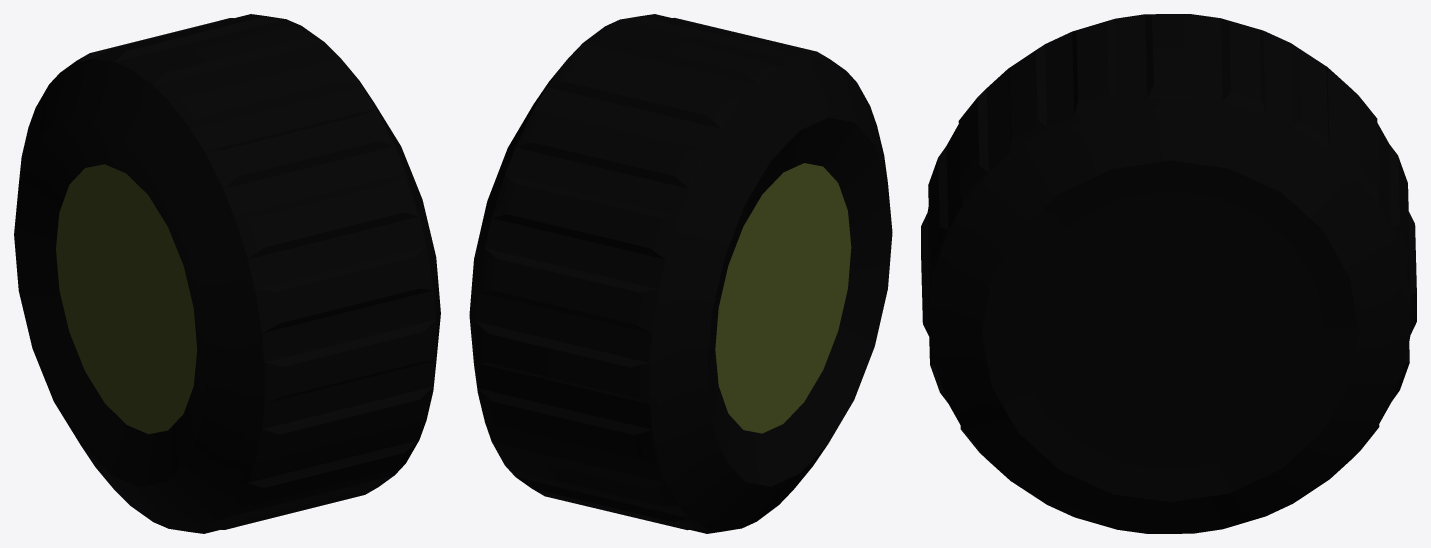
The model's file is halocarroizq.obj.
3 renders of one model, left to right at view 1: azimuth 30°, elevation 25°; view 2: azimuth 150°, elevation 25°; view 3: azimuth 270°, elevation 25°, orthographic.
Visible parts, largest first — view 1: Wheel1.003_Malla.023; view 2: Wheel1.003_Malla.023; view 3: Wheel1.003_Malla.023.
Boxes of the visible parts, x1=… form: Wheel1.003_Malla.023: x1=14, y1=14, x2=440, y2=533; Wheel1.003_Malla.023: x1=469, y1=14, x2=892, y2=533; Wheel1.003_Malla.023: x1=921, y1=14, x2=1416, y2=533.
Size of the model in its own units: 0.2976 by 0.5333 by 0.5353.
